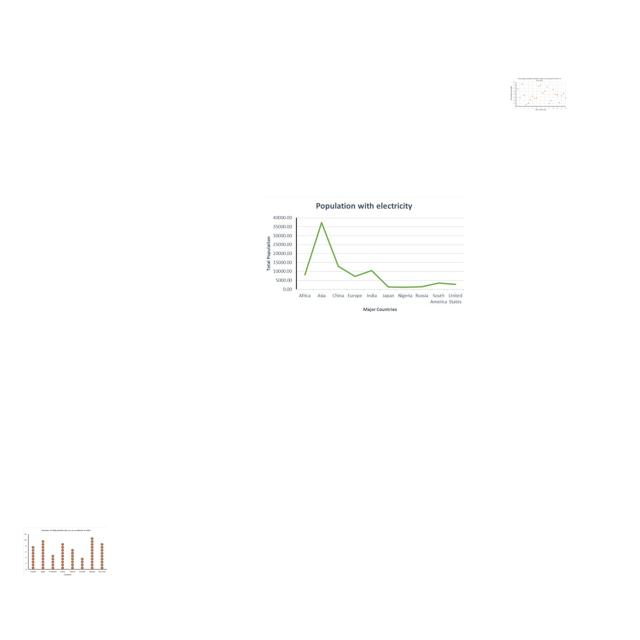Graph: (259, 196, 468, 318), (23, 527, 107, 578), (510, 77, 567, 111)
